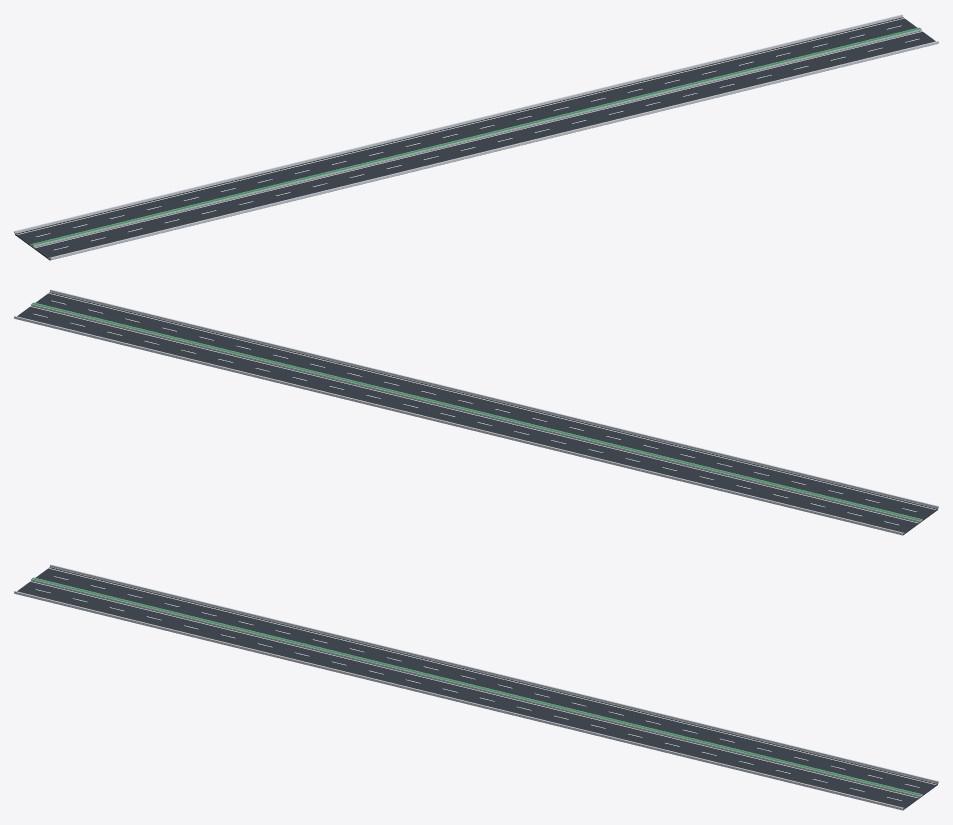
File: bim-subgrade-s4.glb
The picture shows the model from 3 angles, top to bottom: view 1: azimuth 30°, elevation 25°; view 2: azimuth 150°, elevation 25°; view 3: azimuth 330°, elevation 25°; orthographic projection.
Parts seen in each view (by area): view 1: SubgradeSurface, MedianCurb, RailL, RailR, MedianGreen, SolidLine_3, SolidLine_1, DashedLines; view 2: SubgradeSurface, MedianCurb, RailR, RailL, MedianGreen, SolidLine_0, SolidLine_2, DashedLines; view 3: SubgradeSurface, MedianCurb, RailL, RailR, MedianGreen, SolidLine_3, SolidLine_1, DashedLines.
Boxes of the visible parts, left/top/right/bottom form: SubgradeSurface: left=15, top=17, right=936, bottom=260; MedianCurb: left=31, top=27, right=921, bottom=247; RailL: left=14, top=14, right=902, bottom=233; RailR: left=50, top=41, right=938, bottom=259; MedianGreen: left=32, top=27, right=920, bottom=245; SolidLine_3: left=16, top=18, right=904, bottom=234; SolidLine_1: left=34, top=31, right=922, bottom=248; DashedLines: left=36, top=25, right=919, bottom=250; SubgradeSurface: left=16, top=292, right=937, bottom=535; MedianCurb: left=31, top=302, right=921, bottom=522; RailR: left=50, top=289, right=938, bottom=508; RailL: left=14, top=316, right=902, bottom=534; MedianGreen: left=32, top=302, right=920, bottom=520; SolidLine_0: left=48, top=293, right=936, bottom=509; SolidLine_2: left=30, top=306, right=918, bottom=523; DashedLines: left=33, top=300, right=916, bottom=525; SubgradeSurface: left=16, top=567, right=937, bottom=810; MedianCurb: left=31, top=577, right=921, bottom=797; RailL: left=50, top=564, right=938, bottom=783; RailR: left=14, top=591, right=902, bottom=809; MedianGreen: left=32, top=577, right=920, bottom=795; SolidLine_3: left=48, top=568, right=936, bottom=784; SolidLine_1: left=30, top=581, right=918, bottom=798; DashedLines: left=36, top=576, right=919, bottom=800.
Bounding box in the file's own units: 360 × 1.2 × 25.86.
